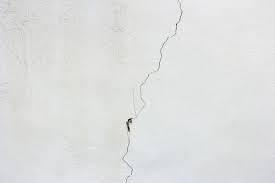Crack: (118, 0, 189, 183)
